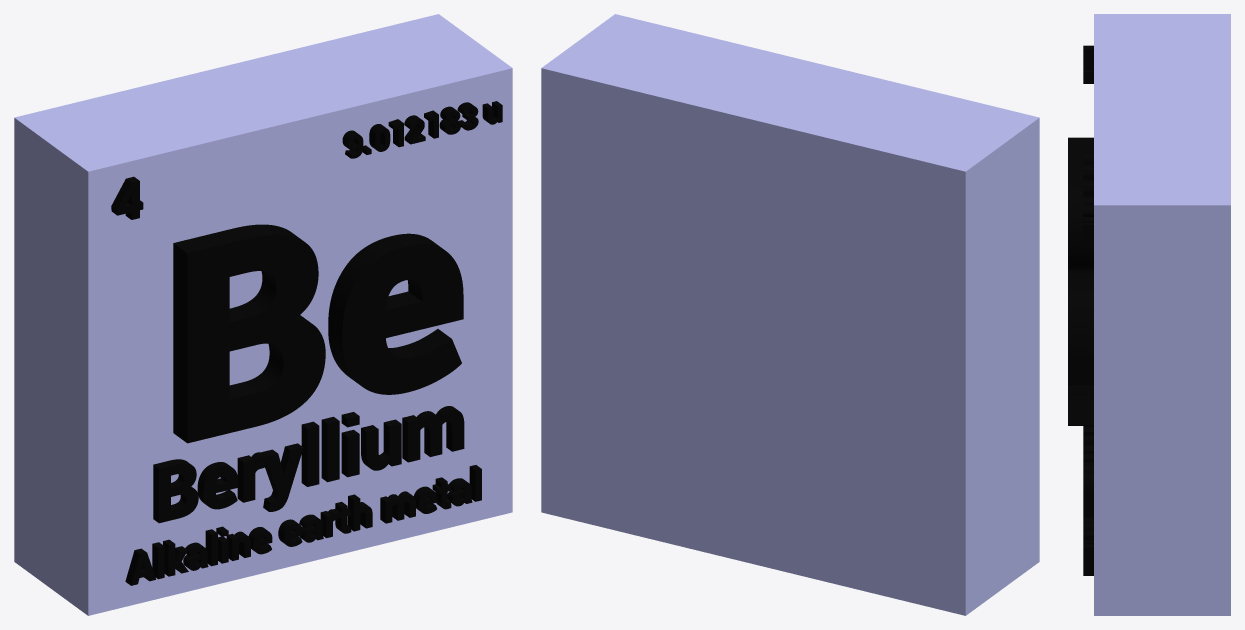
The picture shows the model from 3 angles, left to right: view 1: azimuth 30°, elevation 25°; view 2: azimuth 150°, elevation 25°; view 3: azimuth 270°, elevation 25°; orthographic projection. The views are drawn at different scales.
Visible parts, largest first — view 1: Cube, Text, Text.001, Text.002, Text.004, Text.003; view 2: Cube; view 3: Cube, Text, Text.001, Text.004, Text.002, Text.003.
Part boxes in pixels (bbox=[...]): Cube: bbox=[14, 14, 512, 615]; Text: bbox=[173, 224, 463, 443]; Text.001: bbox=[153, 406, 464, 523]; Text.002: bbox=[125, 465, 481, 585]; Text.004: bbox=[342, 101, 502, 158]; Text.003: bbox=[111, 176, 143, 219]; Cube: bbox=[541, 14, 1039, 615]; Cube: bbox=[1094, 14, 1230, 615]; Text: bbox=[1068, 137, 1093, 425]; Text.001: bbox=[1083, 426, 1093, 516]; Text.004: bbox=[1083, 152, 1093, 240]; Text.002: bbox=[1083, 516, 1093, 575]; Text.003: bbox=[1083, 45, 1093, 83].
Bounding box in the file's own units: 178 × 178 × 63.95.
